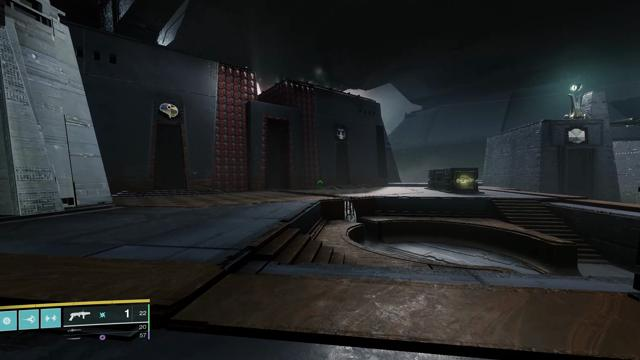brain: (159, 101, 180, 120)
commune: (568, 128, 586, 144)
drink: (335, 127, 347, 139)
